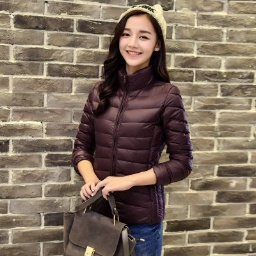face: (103, 9, 167, 84)
